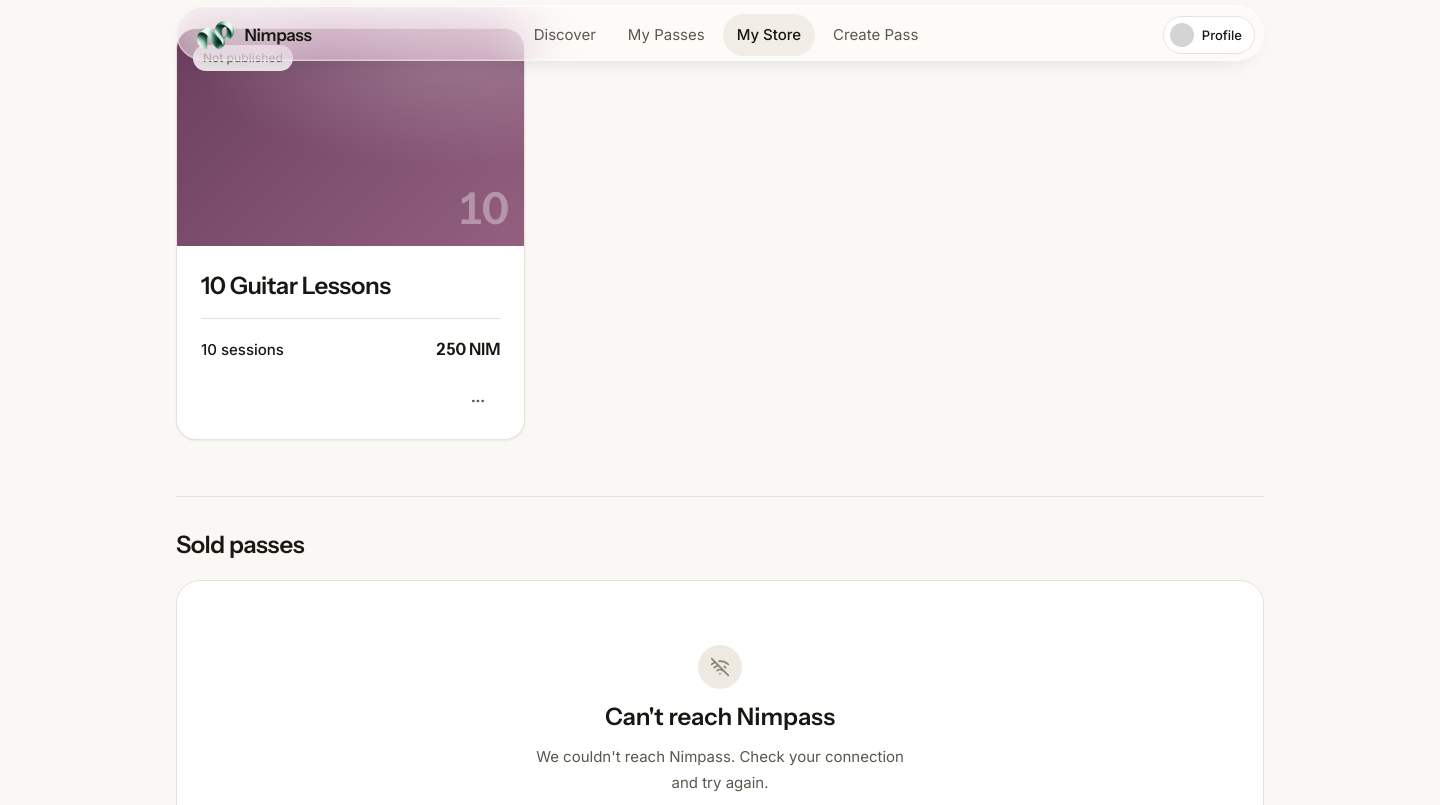
Test: publishing a withdrawn Pass again › offers publication rather than withdrawal for a Pass that was never listed
This screenshot has width=1440, height=805.
(page scrolled)
Check: the heading "10 Guitar Lessons" is shown, box left=201, top=271, right=390, bottom=300
Check: the text "Not published" is shown, box left=193, top=45, right=293, bottom=71
Click the button named "Actions for 10 Guitar Lessons".
click(478, 401)  # box left=456, top=379, right=500, bottom=423
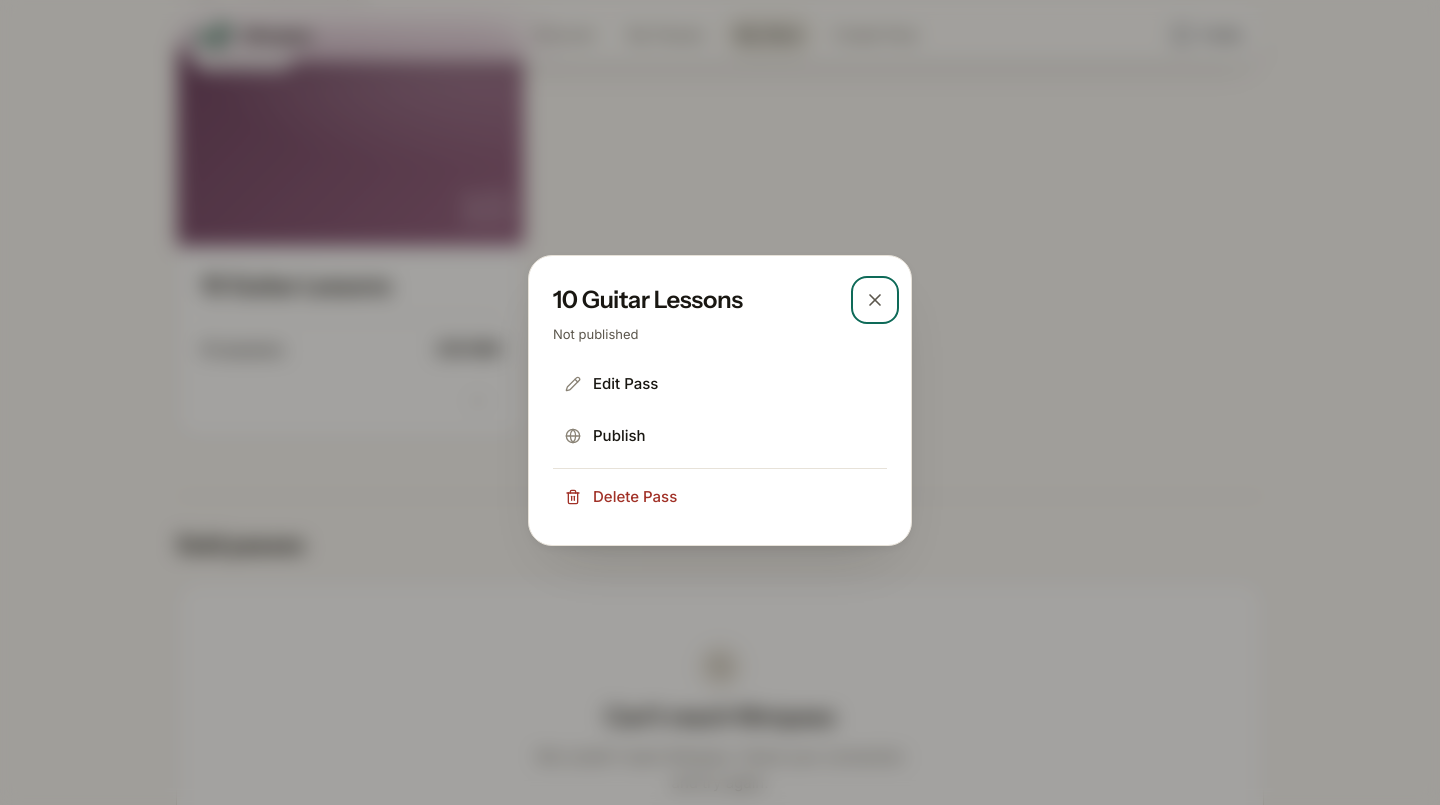
Check: the button "Publish" is shown, box left=553, top=412, right=887, bottom=460
